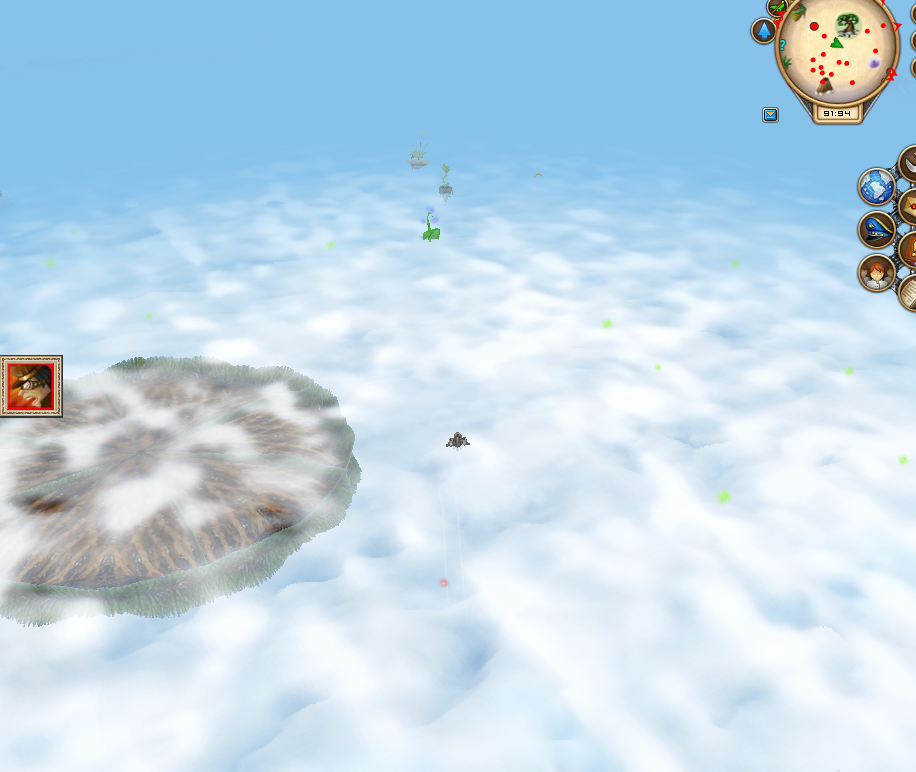dandelion-full: (416, 203, 442, 246)
